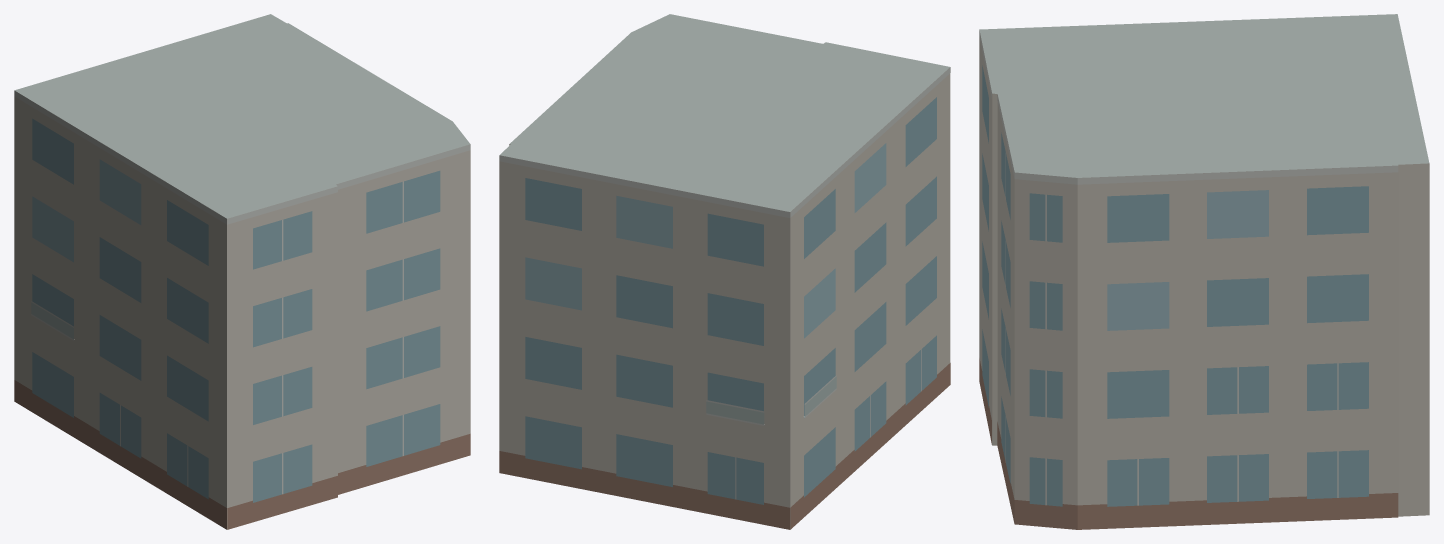
The model's file is survey-upis-32662913.glb.
The picture shows the model from 3 angles, left to right: view 1: azimuth 30°, elevation 25°; view 2: azimuth 150°, elevation 25°; view 3: azimuth 270°, elevation 25°; orthographic projection. The views are drawn at different scales.
Parts seen in each view (by area): view 1: survey-upis-32662913.tmp; view 2: survey-upis-32662913.tmp; view 3: survey-upis-32662913.tmp.
Part boxes in pixels (x1,y1,x2,y2): survey-upis-32662913.tmp: [14, 14, 470, 529]; survey-upis-32662913.tmp: [499, 14, 950, 529]; survey-upis-32662913.tmp: [979, 14, 1429, 529].
Bounding box in the file's own units: 12.8 × 12.8 × 14.85.
